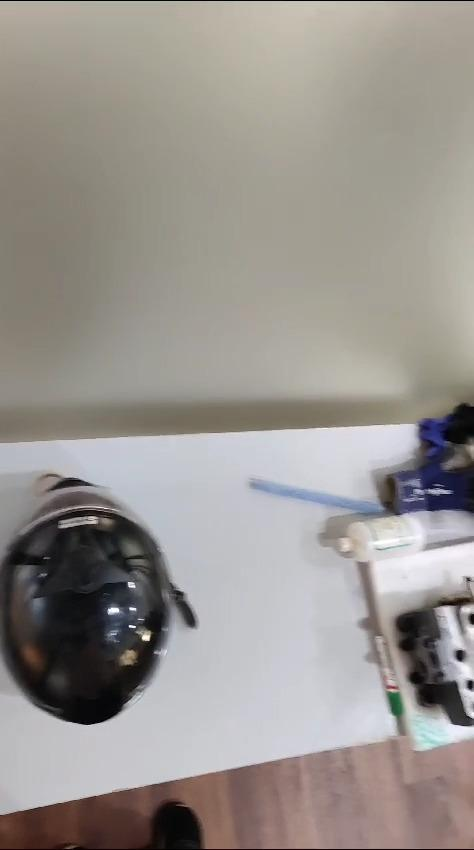Helmet: (0, 475, 196, 725)
